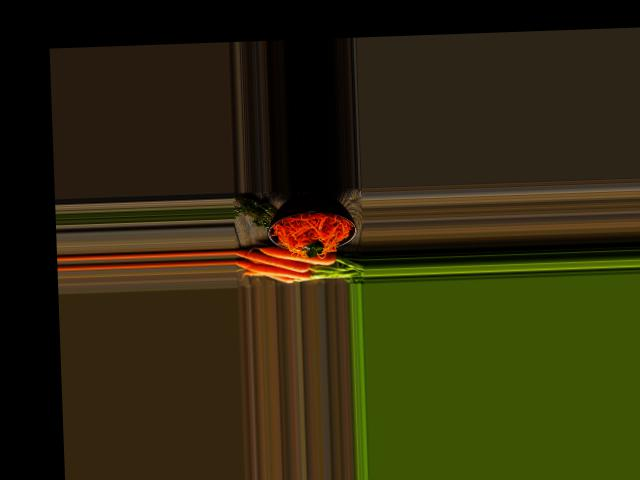carrot: (254, 243, 341, 268)
